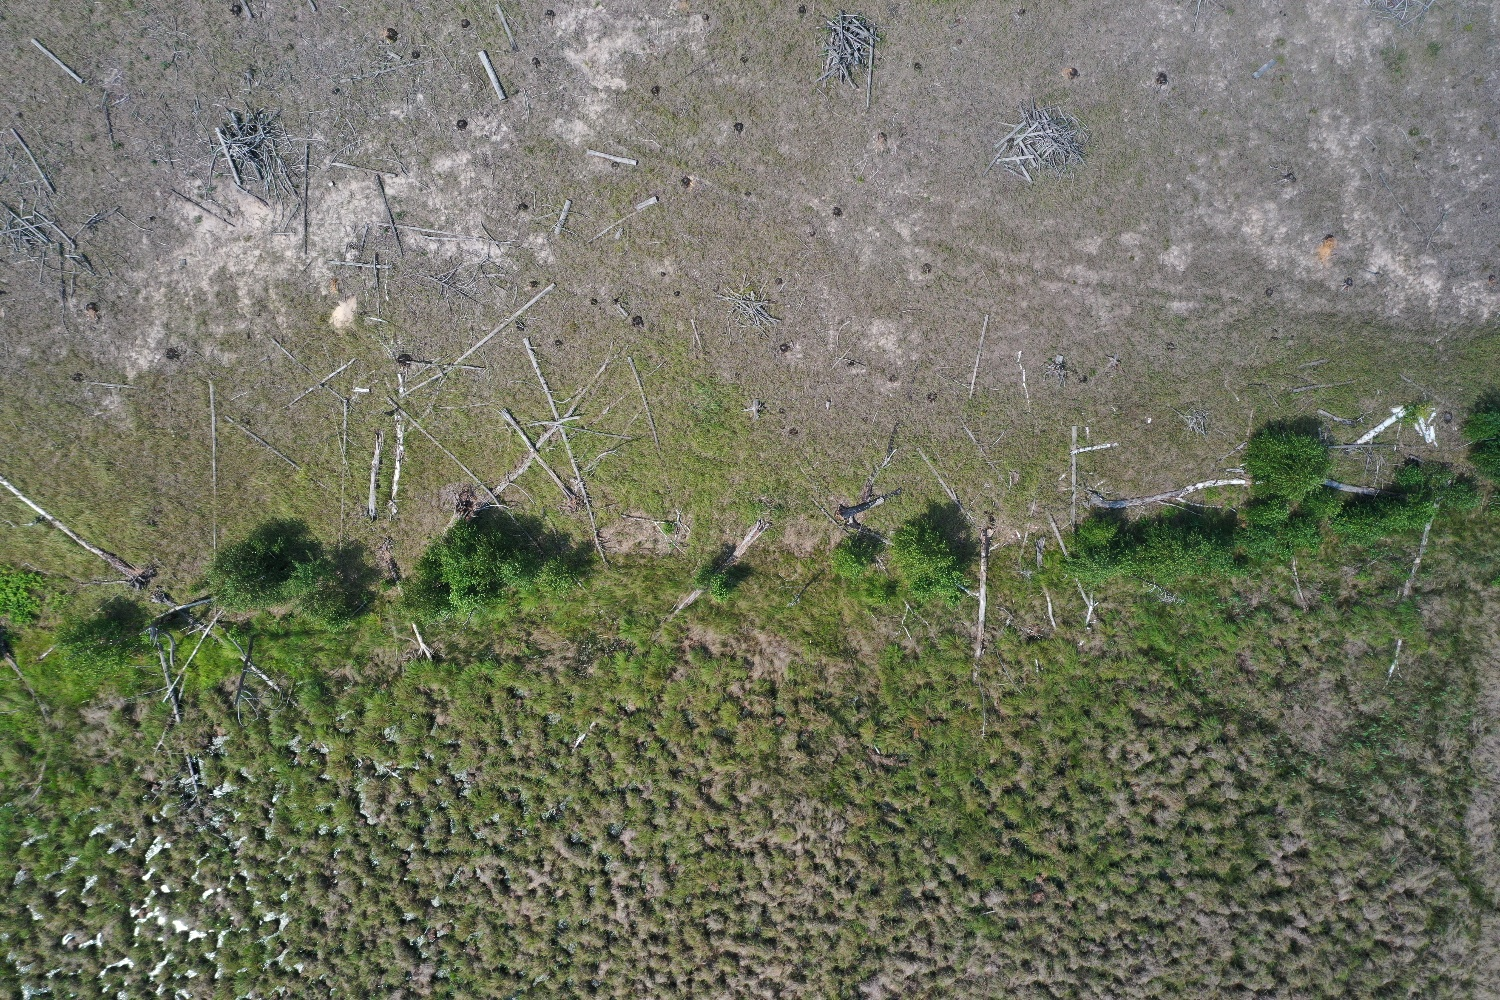branches: (215, 108, 302, 205), (819, 10, 885, 107), (1025, 96, 1092, 170), (714, 275, 781, 345), (985, 121, 1041, 184), (1044, 355, 1074, 386), (1179, 408, 1210, 436)
